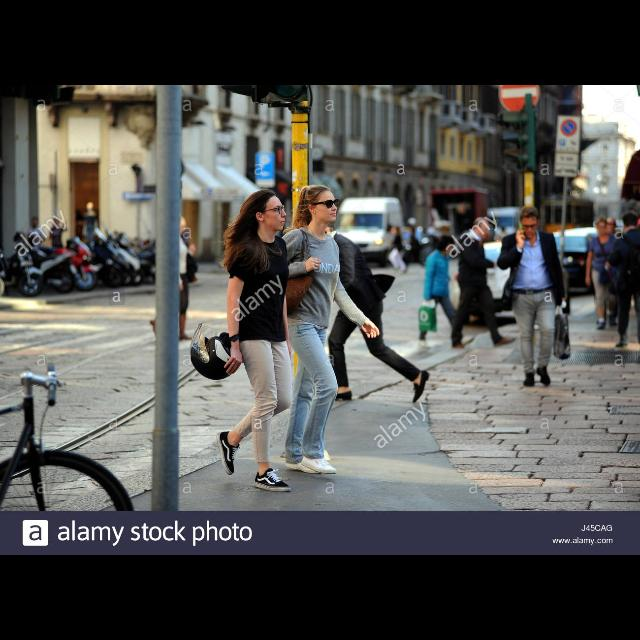head: (306, 186, 338, 224), (255, 195, 287, 232), (519, 207, 541, 240), (304, 224, 326, 244), (474, 216, 490, 240), (622, 213, 640, 234), (171, 216, 187, 236), (440, 236, 454, 254), (596, 219, 610, 235)
person: (270, 184, 382, 478), (215, 186, 297, 496), (299, 218, 431, 406), (495, 206, 569, 390), (448, 215, 518, 352), (146, 212, 202, 344), (413, 233, 475, 344), (583, 215, 625, 329)
